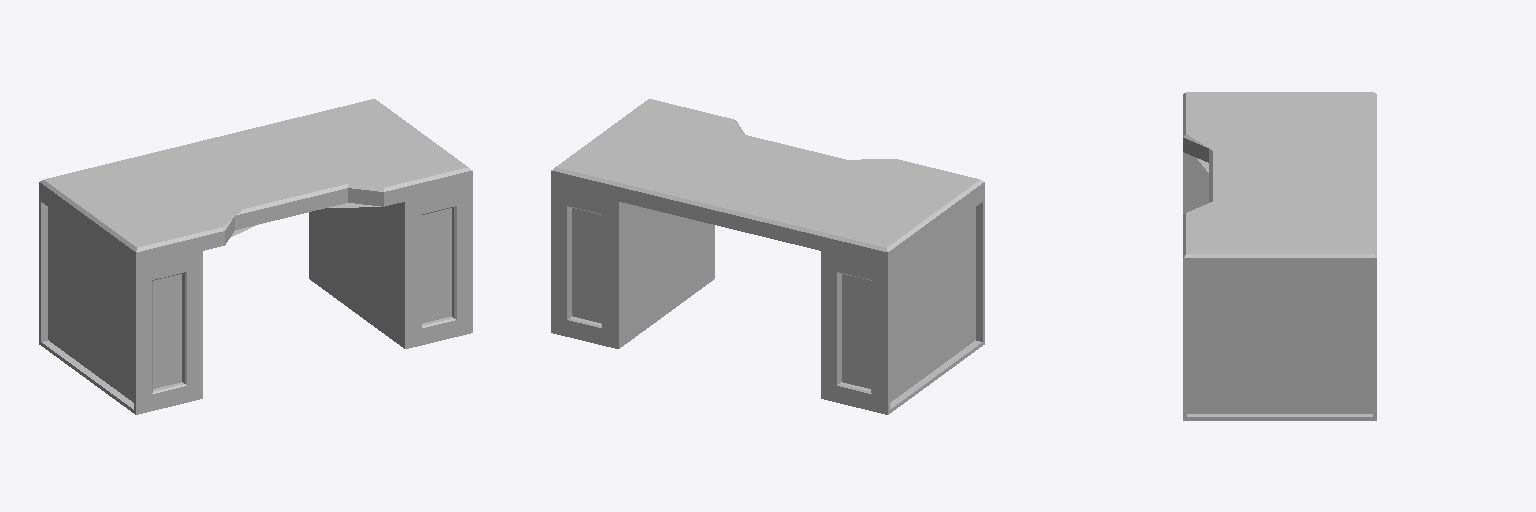
The model's file is Table3.obj.
3 renders of one model, left to right at view 1: azimuth 30°, elevation 25°; view 2: azimuth 150°, elevation 25°; view 3: azimuth 270°, elevation 25°, orthographic.
Parts seen in each view (by area): view 1: Cube, Cube.002, Cube.001, Cube.003; view 2: Cube, Cube.002, Cube.001, Cube.003; view 3: Cube, Cube.002, Cube.003.
Part boxes in pixels (bbox=[...]): Cube: bbox=[39, 99, 472, 414]; Cube.002: bbox=[48, 207, 133, 402]; Cube.001: bbox=[153, 208, 451, 388]; Cube.003: bbox=[40, 167, 472, 251]; Cube: bbox=[551, 99, 984, 414]; Cube.002: bbox=[890, 207, 975, 402]; Cube.001: bbox=[572, 208, 870, 388]; Cube.003: bbox=[551, 120, 983, 251]; Cube: bbox=[1183, 92, 1376, 420]; Cube.002: bbox=[1187, 277, 1372, 413]; Cube.003: bbox=[1183, 93, 1376, 257].
Size of the model in its own units: 4.02 by 1.89 by 2.